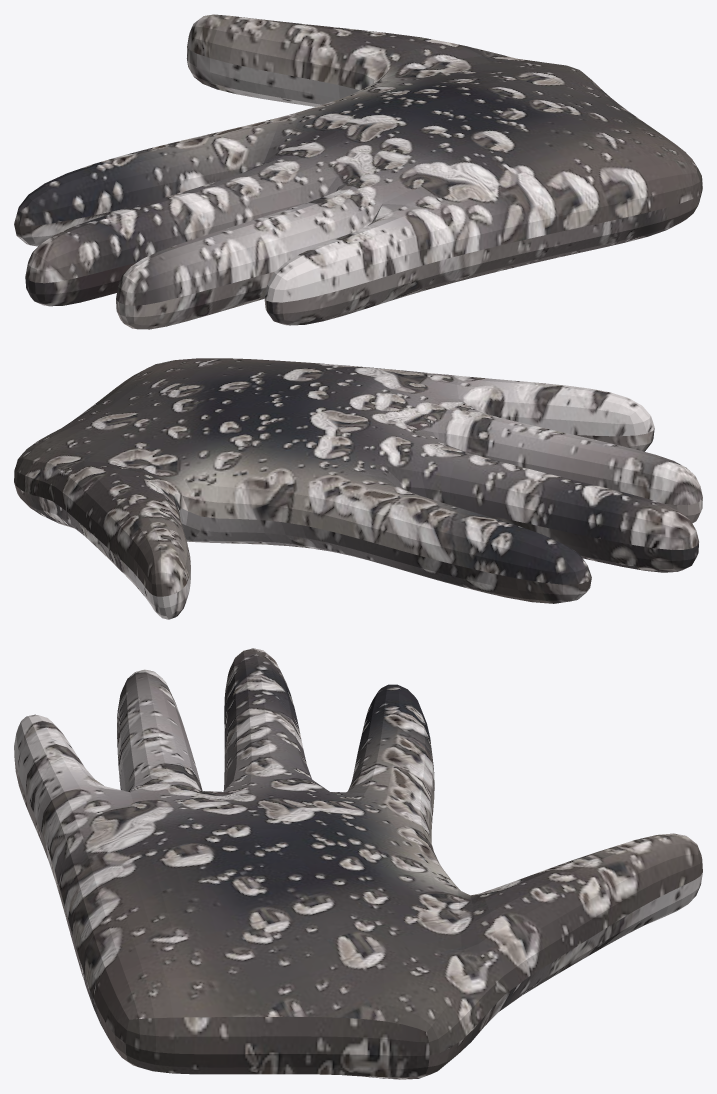
The model's file is Hand.fbx.
3 views of the same model, one above another, from view 1: azimuth 30°, elevation 25°; view 2: azimuth 150°, elevation 25°; view 3: azimuth 270°, elevation 25° (orthographic). The views are drawn at different scales.
Visible parts, largest first — view 1: Plane; view 2: Plane; view 3: Plane.
Boxes of the visible parts, left/top/right/bottom form: Plane: left=14, top=14, right=702, bottom=329; Plane: left=14, top=358, right=702, bottom=619; Plane: left=14, top=648, right=702, bottom=1079.
Size of the model in its own units: 250 by 44.87 by 206.
1 material, 1 textured.
